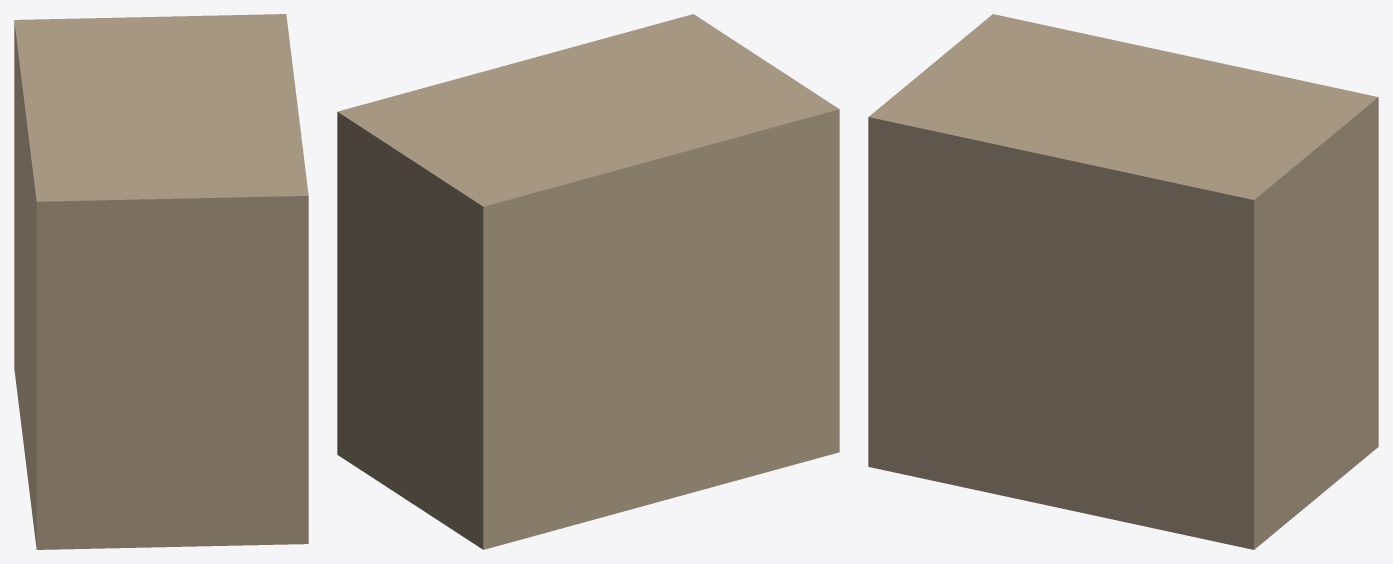
Rendered from bld_99519993.dae.
3 renders of one model, left to right at view 1: azimuth 30°, elevation 25°; view 2: azimuth 150°, elevation 25°; view 3: azimuth 270°, elevation 25°, orthographic.
Visible parts, largest first — view 1: bld_99519993; view 2: bld_99519993; view 3: bld_99519993.
Boxes of the visible parts, bbox=[...] form: bld_99519993: bbox=[14, 14, 308, 549]; bld_99519993: bbox=[337, 14, 839, 549]; bld_99519993: bbox=[868, 14, 1378, 549].
Bounding box in the file's own units: 9.13 × 10.57 × 8.
